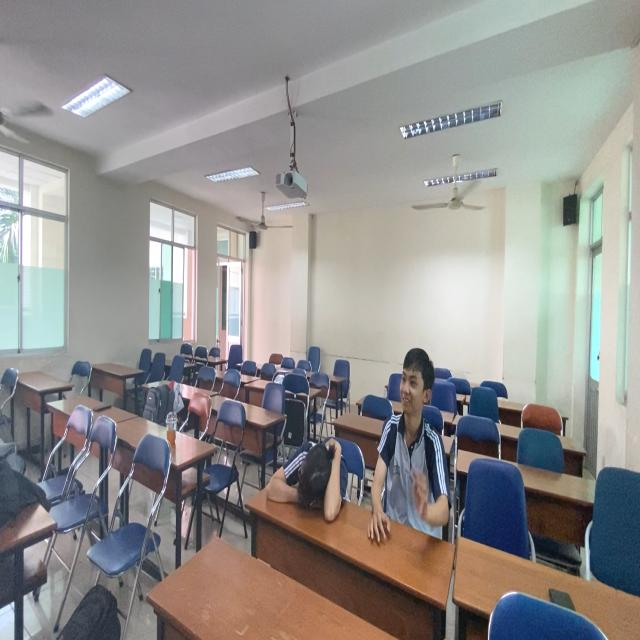sleep: (261, 425, 360, 523)
